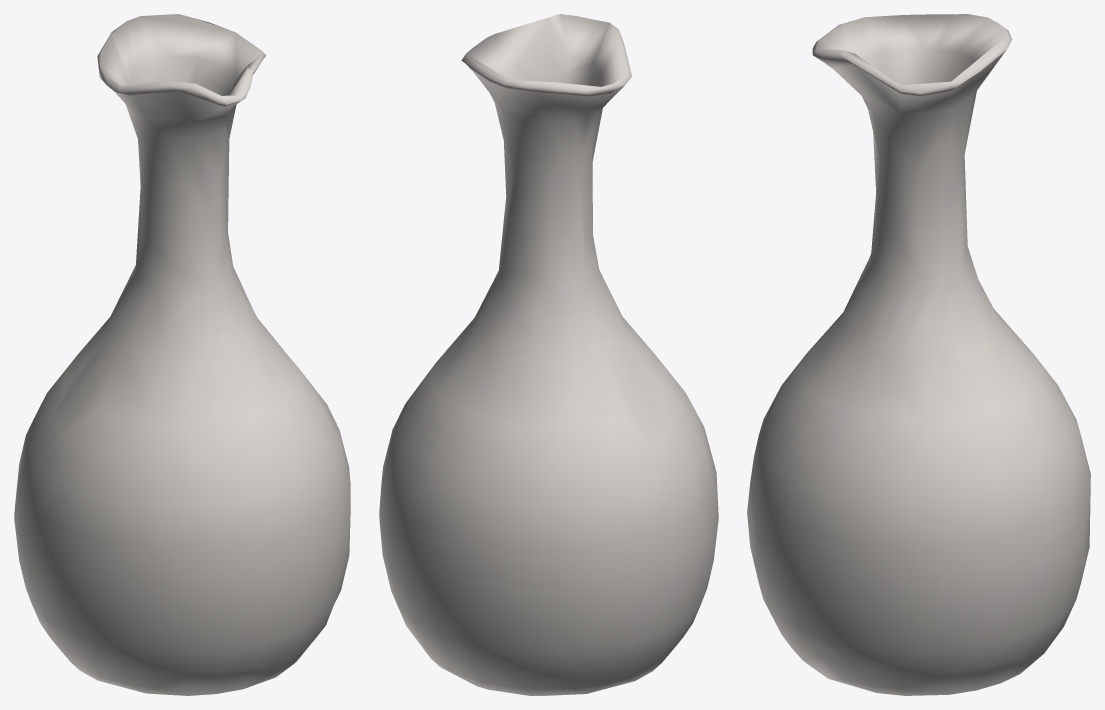
File: ceramic_vase_01.glb
3 views of the same model, side by side, from view 1: azimuth 30°, elevation 25°; view 2: azimuth 150°, elevation 25°; view 3: azimuth 270°, elevation 25° (orthographic).
Parts seen in each view (by area): view 1: ceramic_vase_01; view 2: ceramic_vase_01; view 3: ceramic_vase_01.
Boxes of the visible parts, <box> form: ceramic_vase_01: <box>14,14,350,695</box>; ceramic_vase_01: <box>379,14,718,695</box>; ceramic_vase_01: <box>747,14,1090,695</box>.
Bounding box in the file's own units: 0.2029 × 0.3999 × 0.2026.
Materials: 1 (1 with a texture image).
